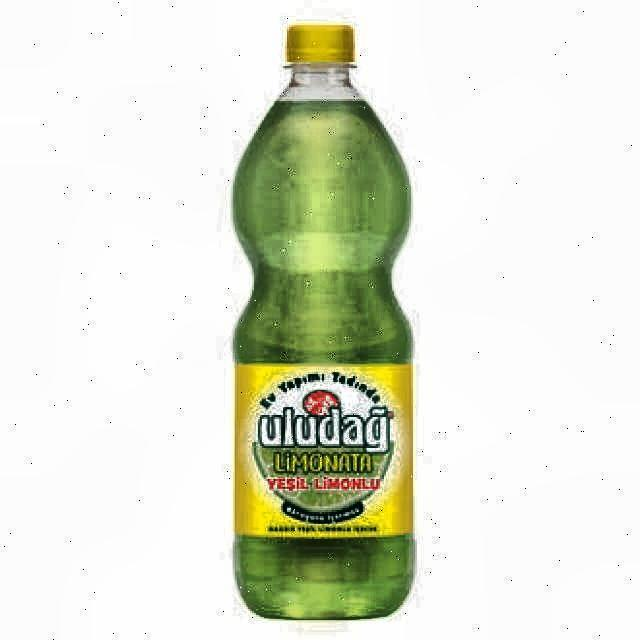plastic: (231, 18, 417, 624)
